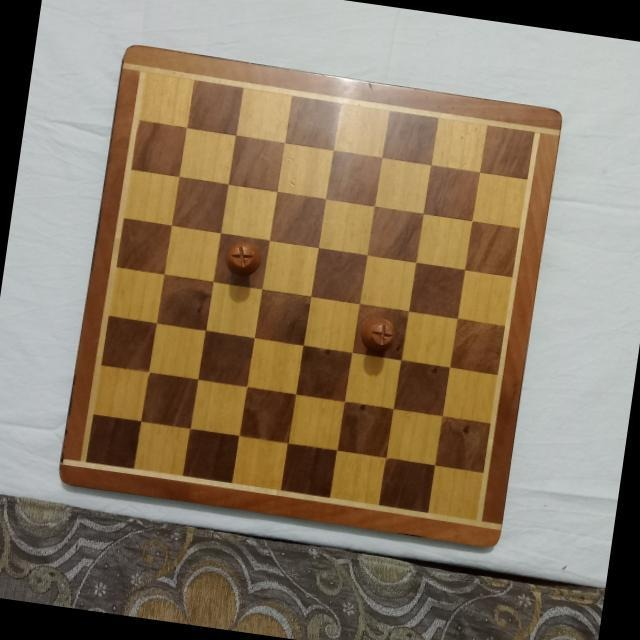white-rook: (223, 237, 264, 279), (358, 311, 398, 353)
